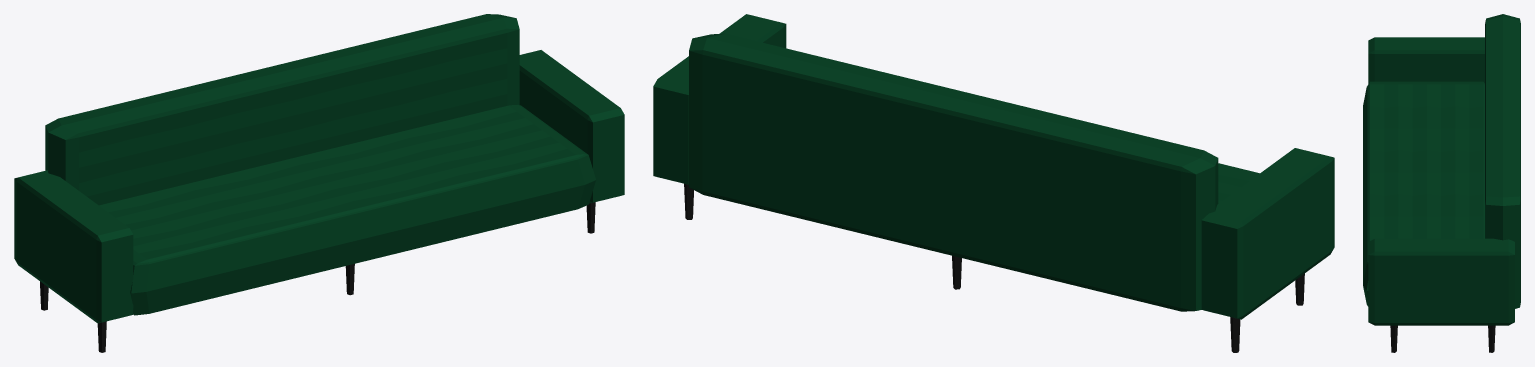
Rendered from couch.fbx.
3 views of the same model, side by side, from view 1: azimuth 30°, elevation 25°; view 2: azimuth 150°, elevation 25°; view 3: azimuth 270°, elevation 25° (orthographic). The views are drawn at different scales.
Parts seen in each view (by area): view 1: couch; view 2: couch; view 3: couch.
Part boxes in pixels (x1,y1,x2,y2): couch: (14, 14, 624, 352); couch: (653, 14, 1334, 352); couch: (1363, 14, 1520, 352).
Size of the model in its own units: 226 by 70.8 by 69.91.
